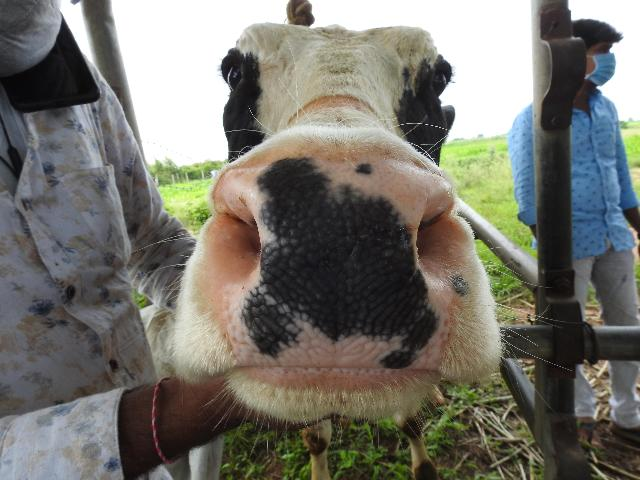Muzzle: (253, 167, 422, 367)
